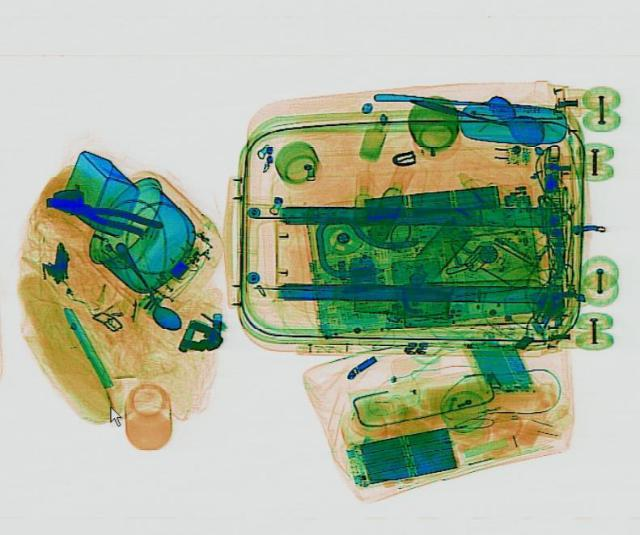Pliers: (41, 189, 163, 239)
